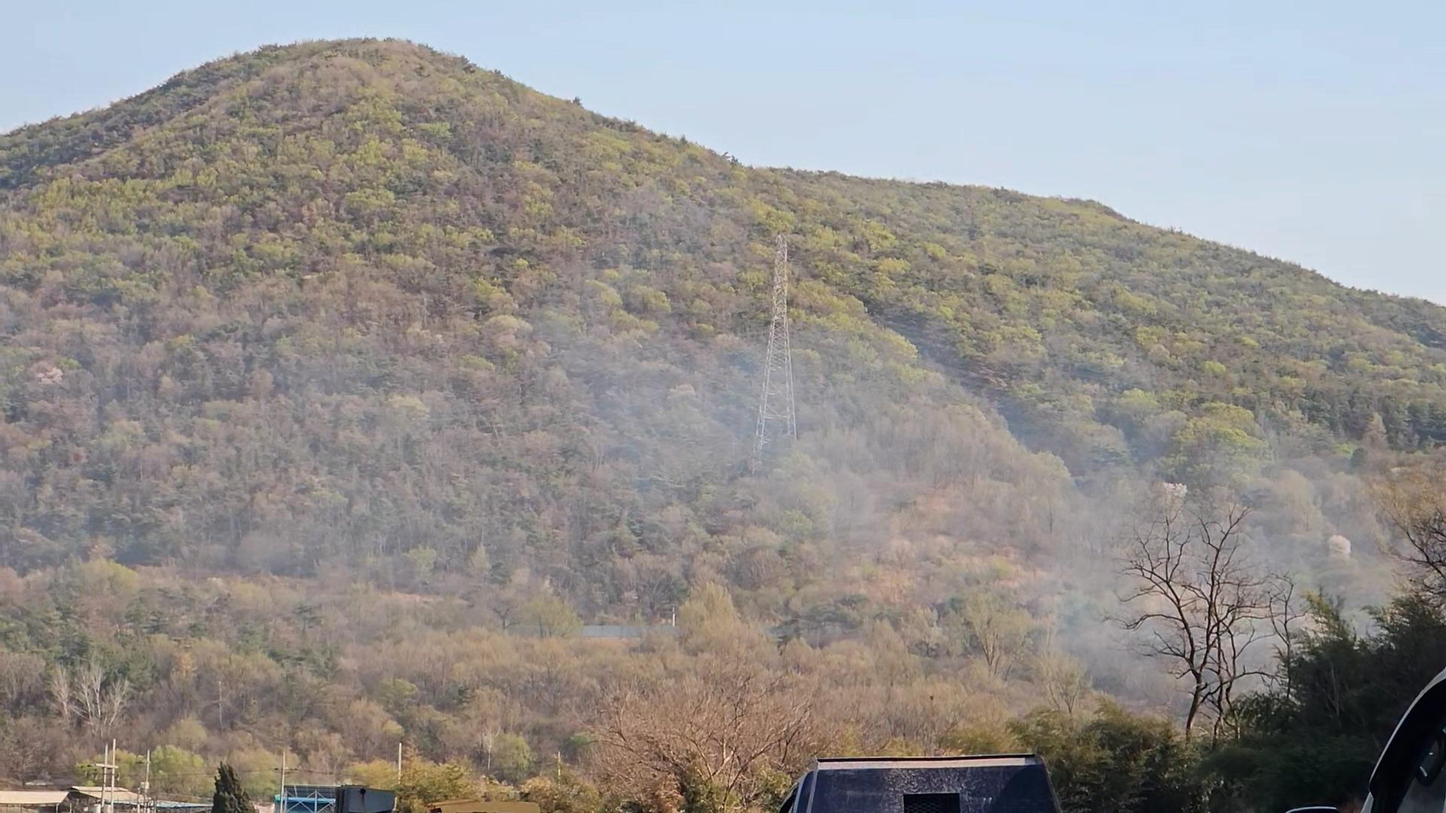smoke: (553, 354, 1402, 710)
